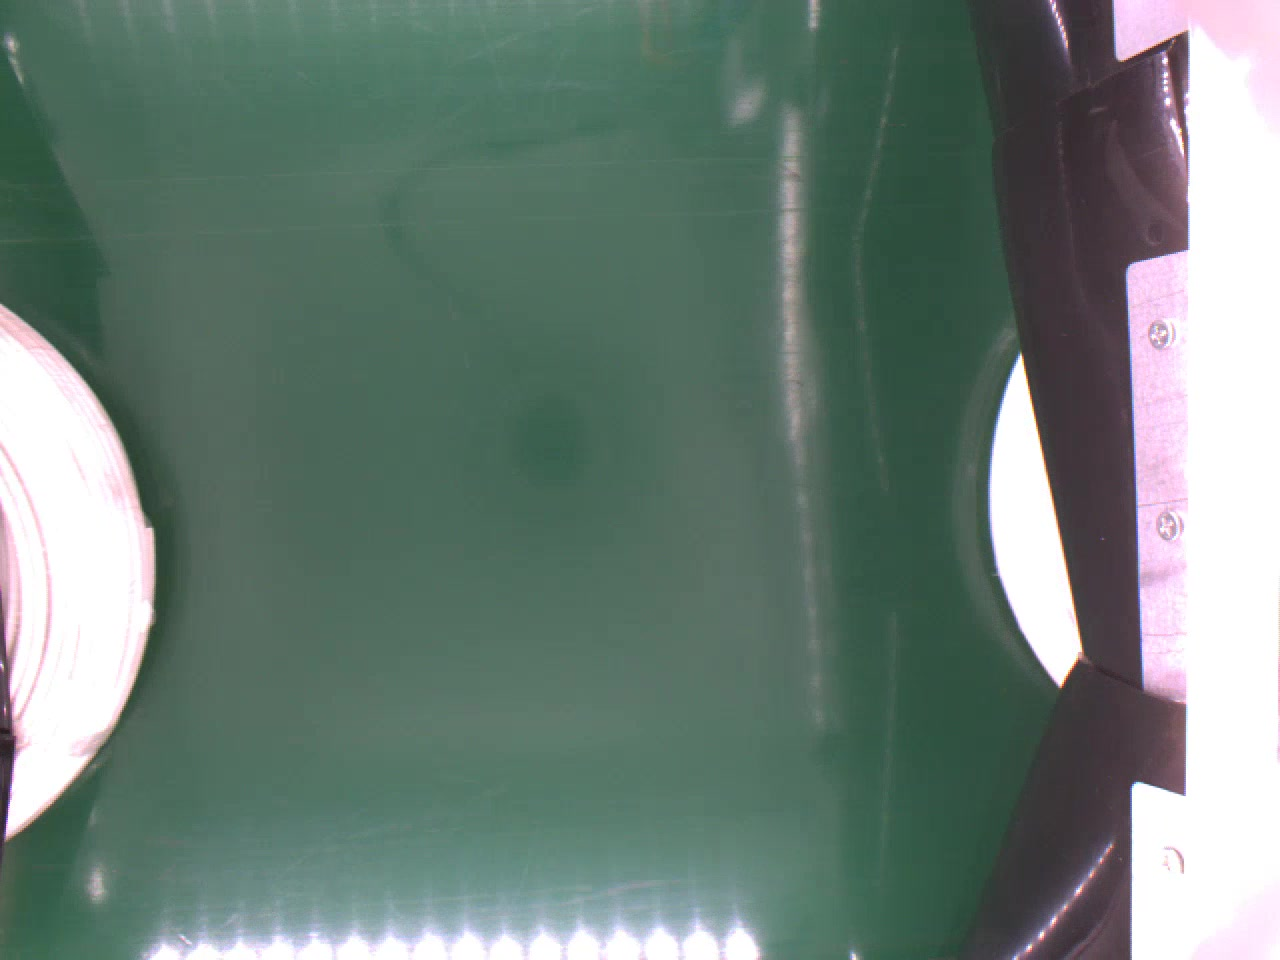white: (0, 302, 160, 832)
